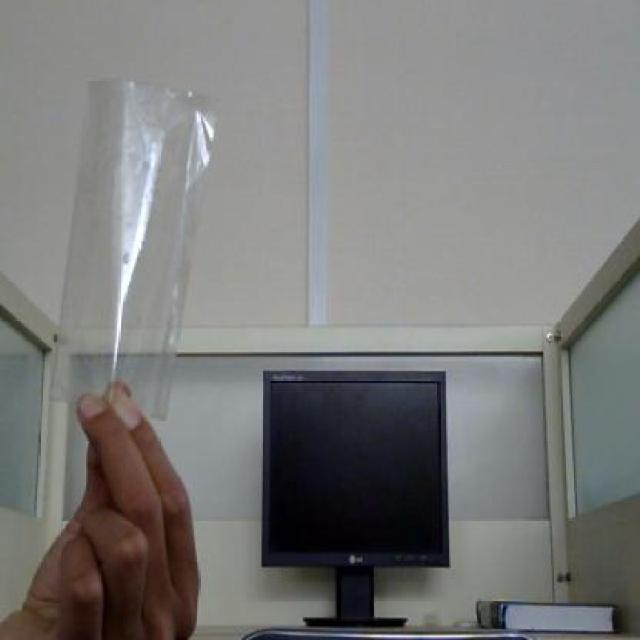Plastic: (48, 76, 219, 384)
